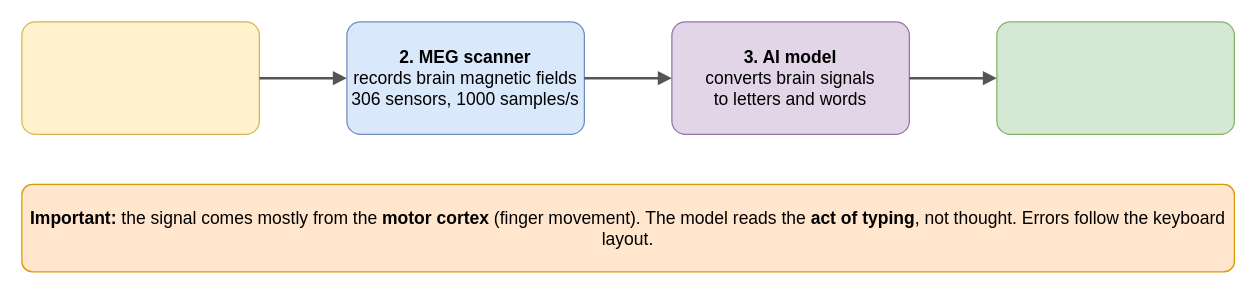
The diagram is 1256 pixels wide and 294 high, and some of its shapes have lost their labels. Each missing label, with the box of its shape:
1. Person types a sentence on a hidden keyboard (cannot see the text): (21, 21, 259, 134)
4. Predicted text "el beneficio supera los riesgos": (996, 21, 1234, 134)
